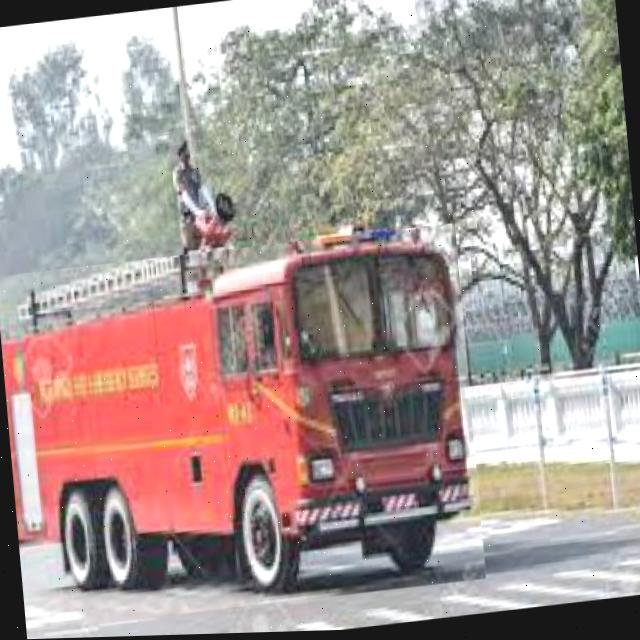Fire Truck: (0, 225, 486, 632)
